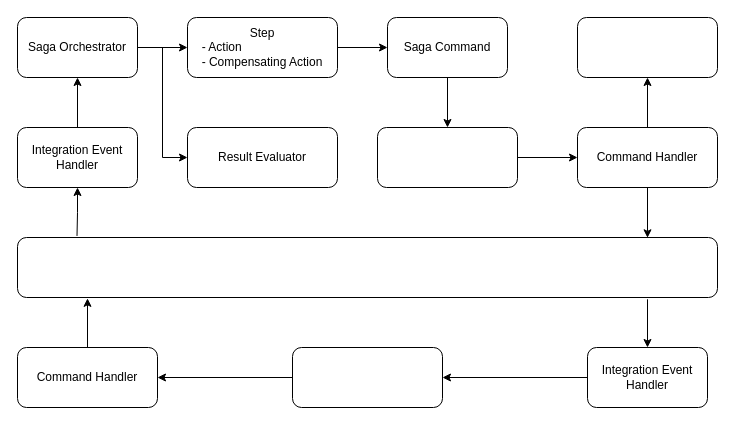
Image size: 735x425. Some labels were removed from this diagram. Each missing label, with the centre of its shape:
"Command Dispatcher" goes at point 447,157.
"Event Bus" goes at point 367,267.
"External Service" goes at point 367,377.
"Repository" goes at point 647,47.
